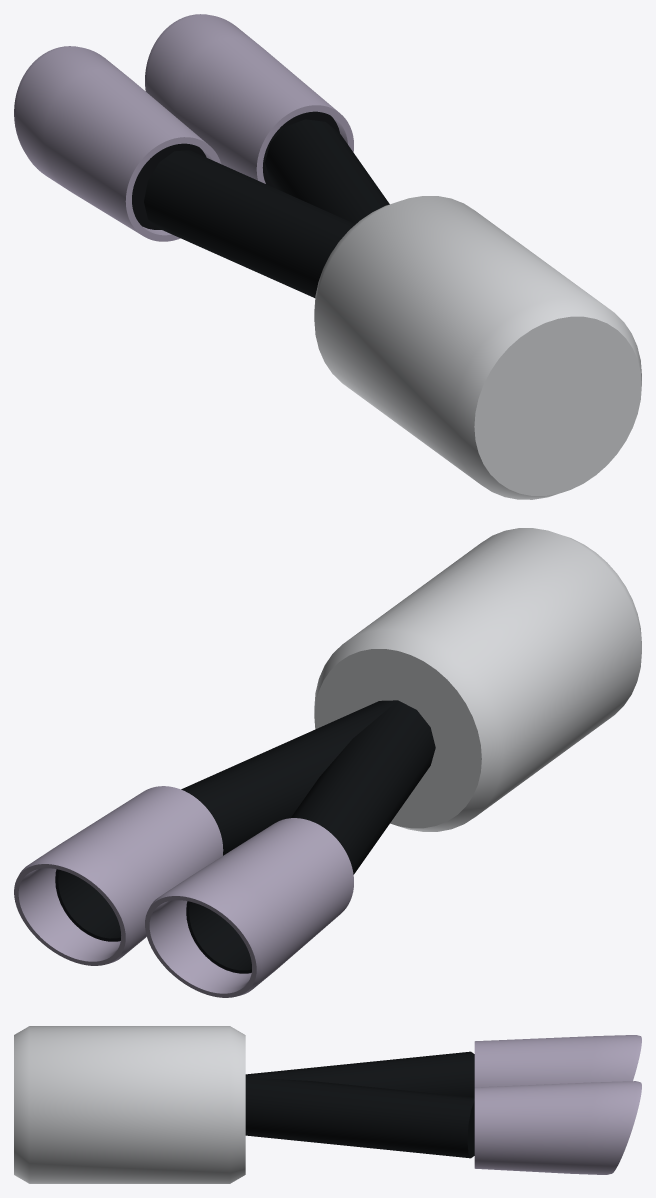
Rendered from EX30_slash_cut_twin.glb.
3 renders of one model, top to bottom at view 1: azimuth 30°, elevation 25°; view 2: azimuth 150°, elevation 25°; view 3: azimuth 270°, elevation 25°, orthographic. The views are drawn at different scales.
Parts seen in each view (by area): view 1: MOD_ND_EX30_silencer, MOD_ND_EX30_tip_0, MOD_ND_EX30_tip_1, MOD_ND_EX30_pipe_0, MOD_ND_EX30_pipe_1, MOD_ND_EX30_bore_0, MOD_ND_EX30_bore_1; view 2: MOD_ND_EX30_silencer, MOD_ND_EX30_tip_0, MOD_ND_EX30_tip_1, MOD_ND_EX30_pipe_0, MOD_ND_EX30_pipe_1, MOD_ND_EX30_bore_0, MOD_ND_EX30_bore_1; view 3: MOD_ND_EX30_silencer, MOD_ND_EX30_pipe_1, MOD_ND_EX30_tip_1, MOD_ND_EX30_tip_0, MOD_ND_EX30_pipe_0.
Boxes of the visible parts, left/top/right/bottom form: MOD_ND_EX30_silencer: left=314, top=196, right=641, bottom=499; MOD_ND_EX30_tip_0: left=14, top=46, right=221, bottom=241; MOD_ND_EX30_tip_1: left=145, top=14, right=353, bottom=183; MOD_ND_EX30_pipe_0: left=144, top=150, right=355, bottom=297; MOD_ND_EX30_pipe_1: left=265, top=119, right=389, bottom=224; MOD_ND_EX30_bore_0: left=132, top=143, right=206, bottom=229; MOD_ND_EX30_bore_1: left=262, top=111, right=339, bottom=187; MOD_ND_EX30_silencer: left=314, top=528, right=641, bottom=831; MOD_ND_EX30_tip_0: left=145, top=818, right=353, bottom=997; MOD_ND_EX30_tip_1: left=14, top=786, right=223, bottom=965; MOD_ND_EX30_pipe_0: left=291, top=700, right=435, bottom=874; MOD_ND_EX30_pipe_1: left=181, top=700, right=397, bottom=855; MOD_ND_EX30_bore_0: left=186, top=901, right=251, bottom=973; MOD_ND_EX30_bore_1: left=55, top=869, right=120, bottom=941; MOD_ND_EX30_silencer: left=14, top=1026, right=245, bottom=1183; MOD_ND_EX30_pipe_1: left=245, top=1077, right=474, bottom=1158; MOD_ND_EX30_tip_1: left=474, top=1081, right=641, bottom=1174; MOD_ND_EX30_tip_0: left=474, top=1035, right=641, bottom=1087; MOD_ND_EX30_pipe_0: left=245, top=1051, right=474, bottom=1097.
Bounding box in the file's own units: 0.16 × 0.124 × 0.4936.
